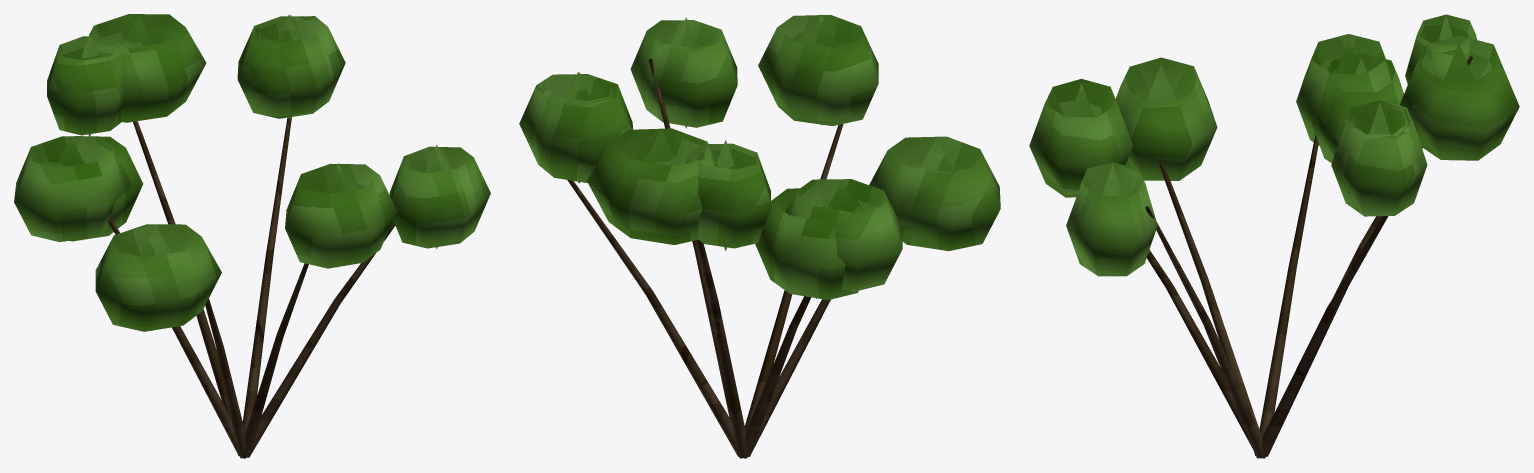
File: filbert_big02-lod1.glb
3 views of the same model, side by side, from view 1: azimuth 30°, elevation 25°; view 2: azimuth 150°, elevation 25°; view 3: azimuth 270°, elevation 25° (orthographic). The views are drawn at different scales.
Parts seen in each view (by area): view 1: TZ_filbert_shrub_Batch_00_LOD1, TZ_filbert_shrub_Batch_01_LOD1; view 2: TZ_filbert_shrub_Batch_00_LOD1, TZ_filbert_shrub_Batch_01_LOD1; view 3: TZ_filbert_shrub_Batch_00_LOD1, TZ_filbert_shrub_Batch_01_LOD1.
Boxes of the visible parts, x1,y1,x2,y2 form: TZ_filbert_shrub_Batch_00_LOD1: (14,14,490,331); TZ_filbert_shrub_Batch_01_LOD1: (108,117,395,458); TZ_filbert_shrub_Batch_00_LOD1: (519,14,1000,299); TZ_filbert_shrub_Batch_01_LOD1: (567,58,843,458); TZ_filbert_shrub_Batch_00_LOD1: (1029,14,1519,276); TZ_filbert_shrub_Batch_01_LOD1: (1145,56,1472,458).
Bounding box in the file's own units: 2.46 × 2.45 × 2.68.
2 materials, 2 textured.
